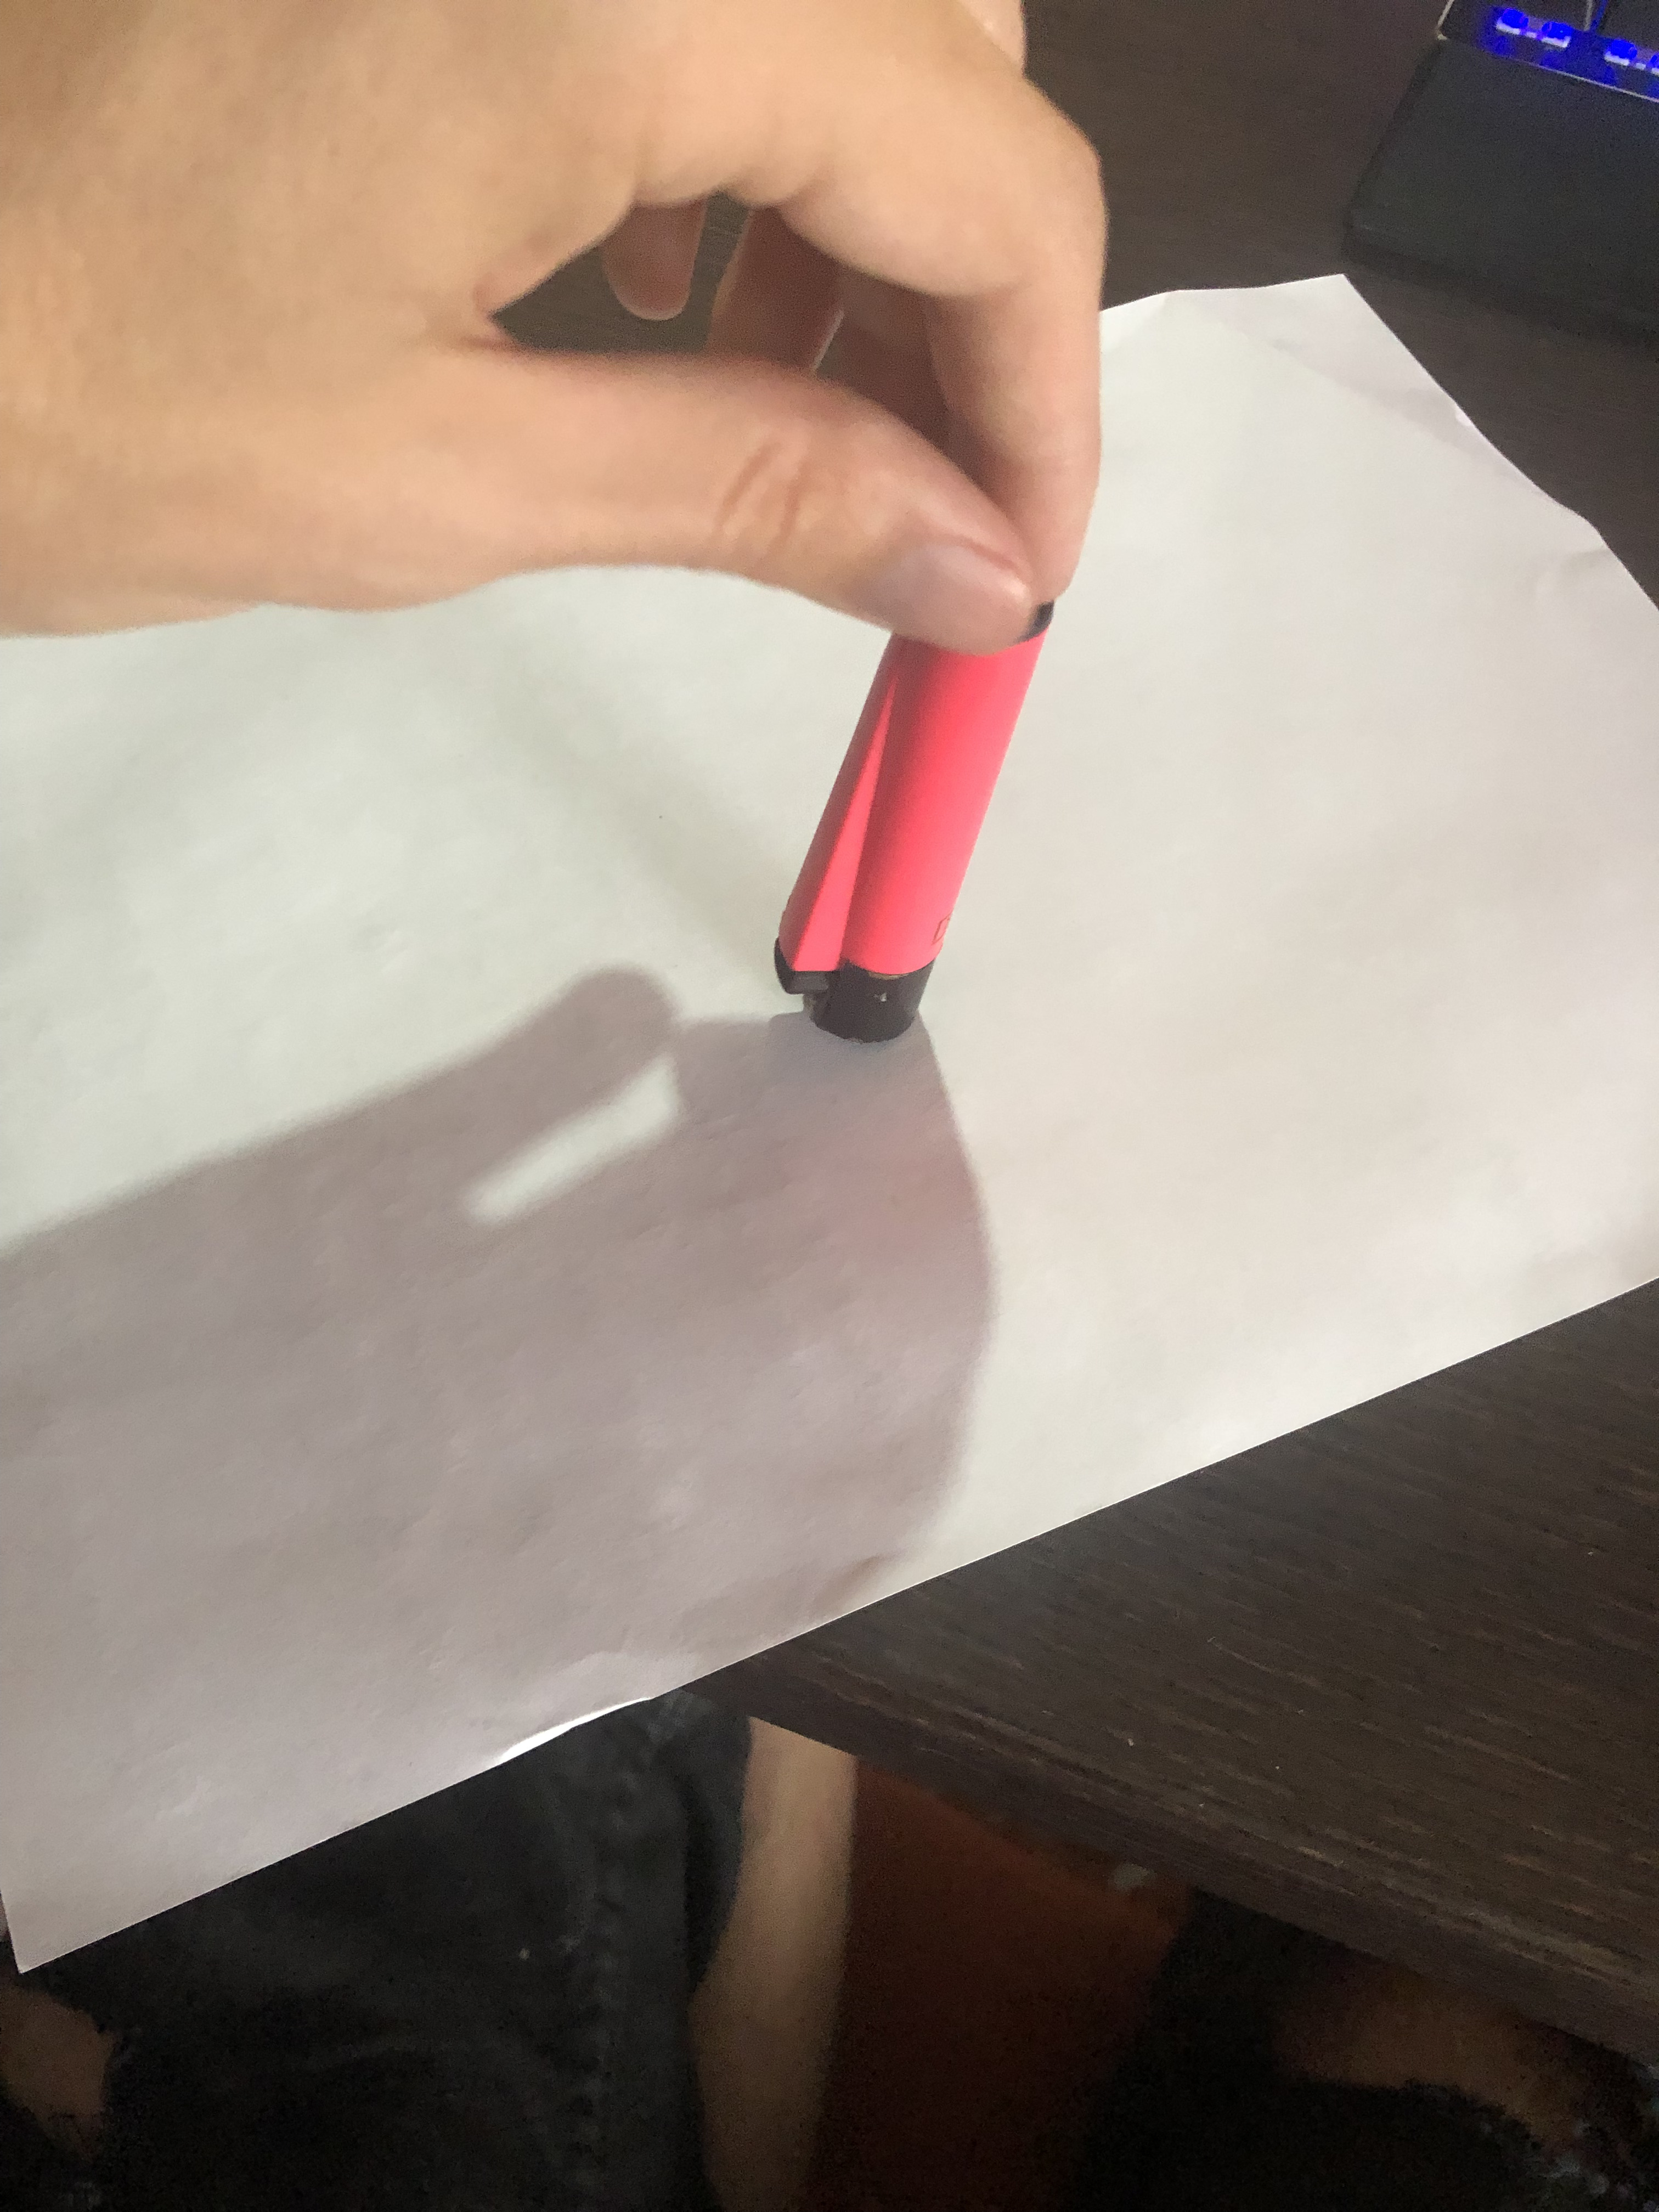Mechero: (762, 594, 1093, 1078)
